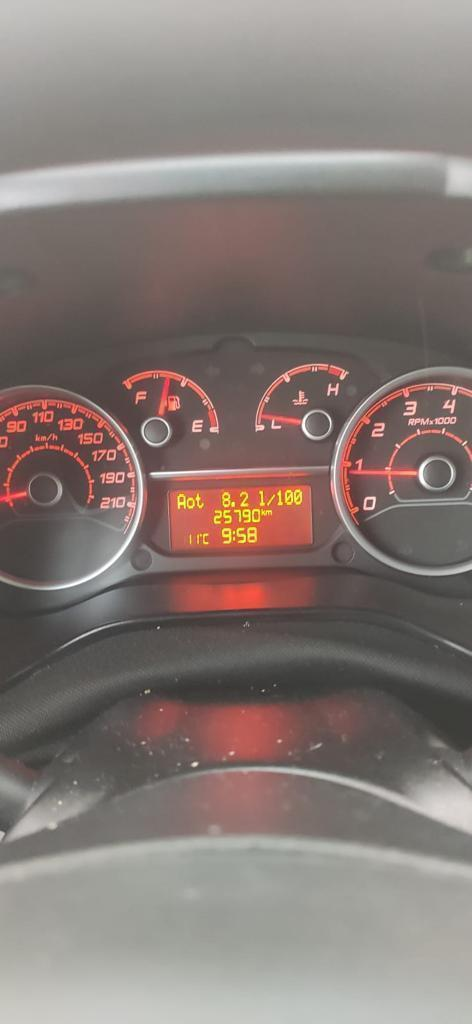,: (230, 501, 235, 507)
0: (293, 488, 302, 505), (284, 489, 293, 505), (251, 508, 260, 522)
1: (276, 489, 283, 505), (188, 532, 192, 544), (196, 533, 199, 544)
2: (239, 491, 249, 507), (213, 509, 222, 524)
5: (235, 527, 246, 543), (223, 509, 232, 523)
7: (233, 509, 241, 523)
8: (246, 526, 257, 543), (221, 491, 230, 507)
9: (221, 527, 231, 544), (241, 508, 251, 523)
X: (195, 491, 204, 509), (177, 493, 186, 509), (266, 493, 275, 506), (186, 497, 195, 509), (258, 489, 264, 506), (202, 533, 209, 544), (265, 509, 272, 516), (260, 508, 265, 515), (232, 530, 235, 541)
odometer: (166, 483, 314, 553)
